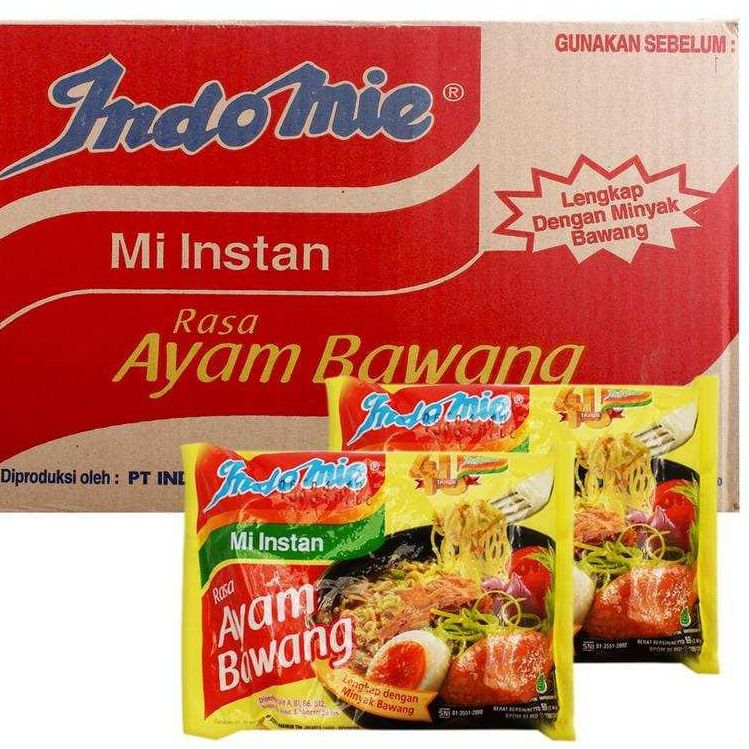indomie ayam bawang: (312, 359, 732, 680), (174, 440, 594, 746)
